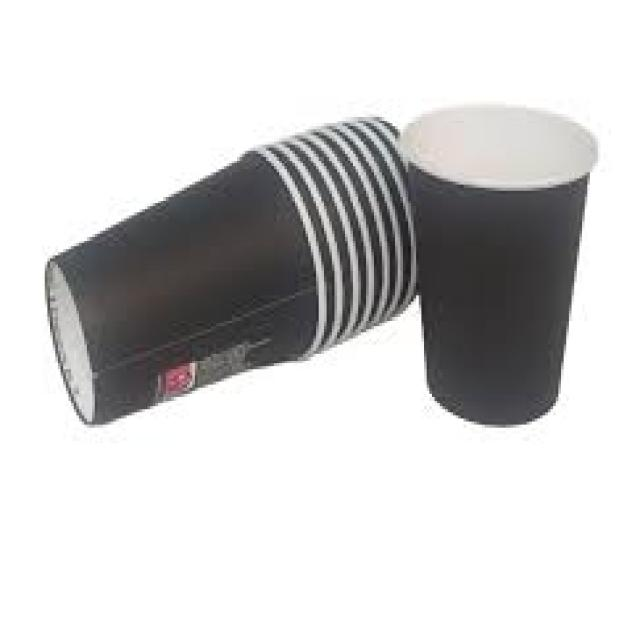PaperCardboard: (42, 113, 423, 427), (402, 94, 599, 428)
